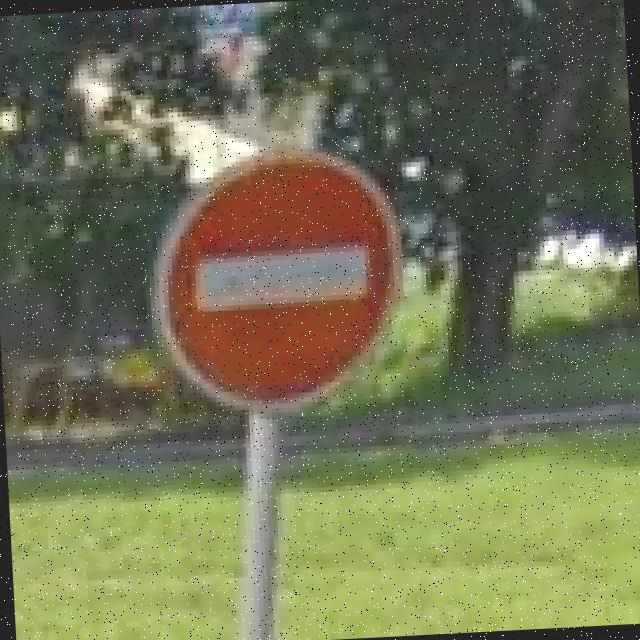Zakaz wjazdu: (143, 144, 410, 419)
